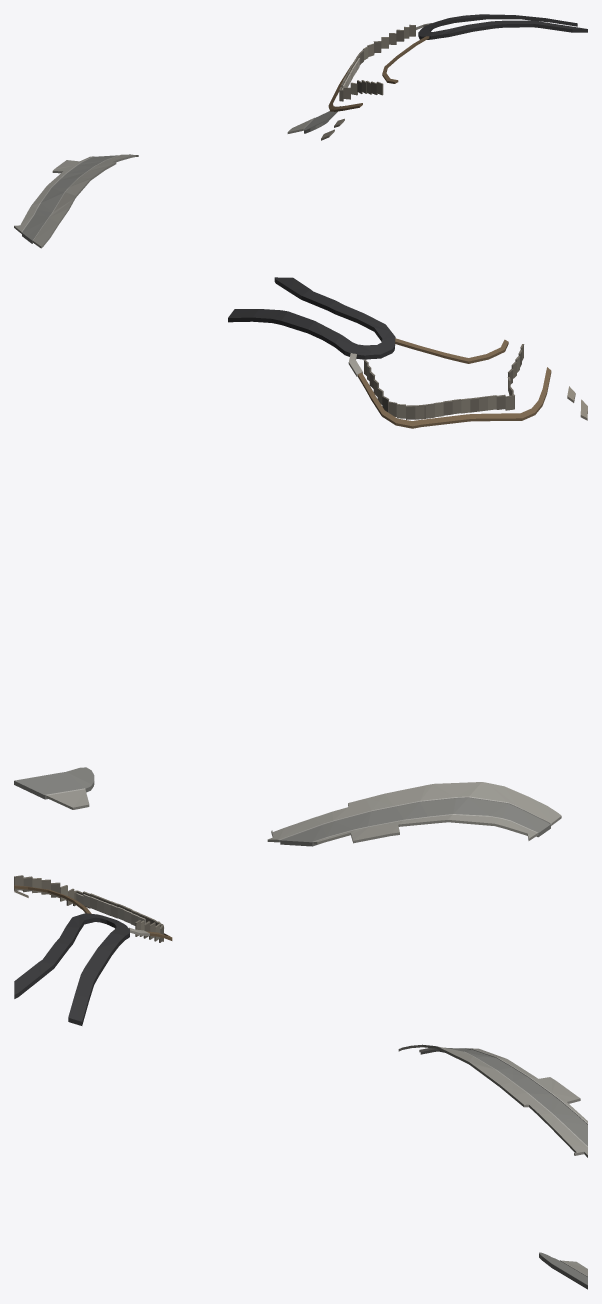
The model's file is 18-218875-118955.60f7ddac.glb.
3 renders of one model, top to bottom at view 1: azimuth 30°, elevation 25°; view 2: azimuth 150°, elevation 25°; view 3: azimuth 270°, elevation 25°, orthographic. The views are drawn at different scales.
Bounding box in the file's own units: 147 × 91.75 × 146.
